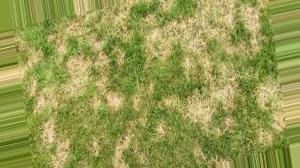patch: (207, 6, 262, 52), (61, 54, 109, 94), (186, 96, 218, 123), (170, 26, 208, 47), (37, 92, 54, 138), (44, 29, 74, 52), (112, 137, 129, 165), (258, 85, 272, 110), (190, 54, 206, 64)
